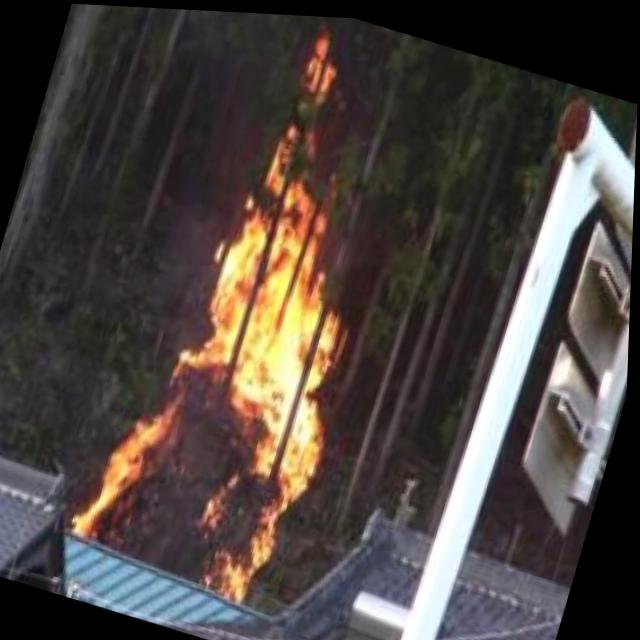fire: (73, 94, 394, 612)
